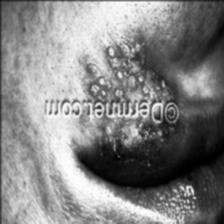Toxin: (86, 36, 174, 100), (95, 125, 177, 166)
